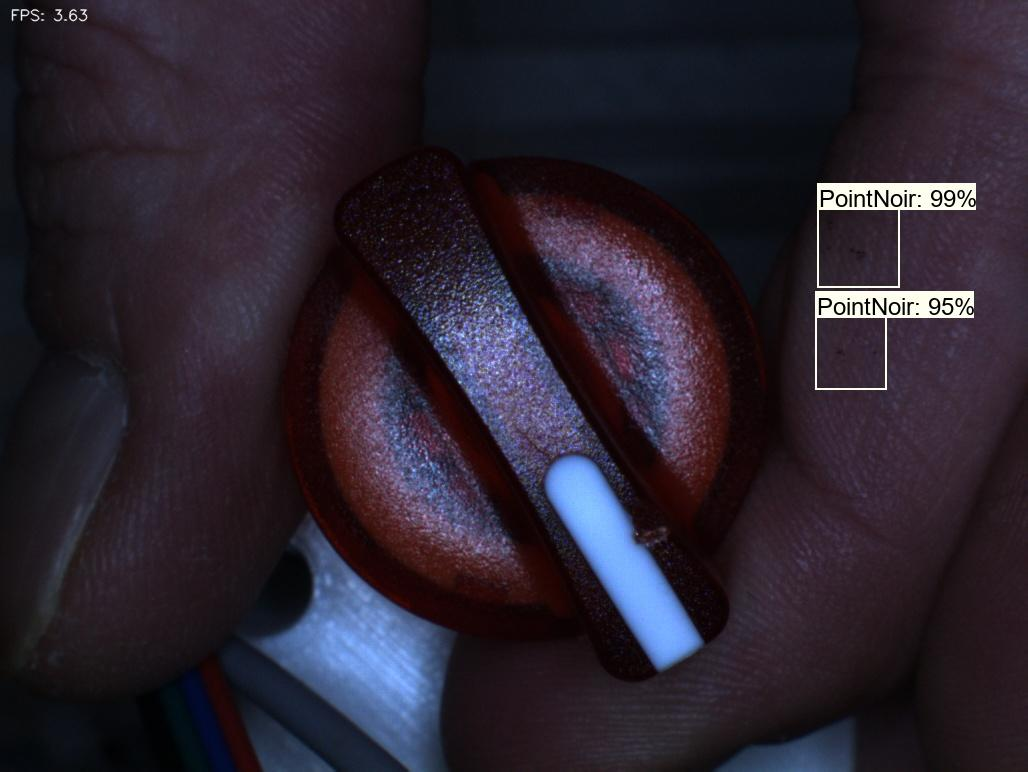Choc: (607, 482, 703, 568)
